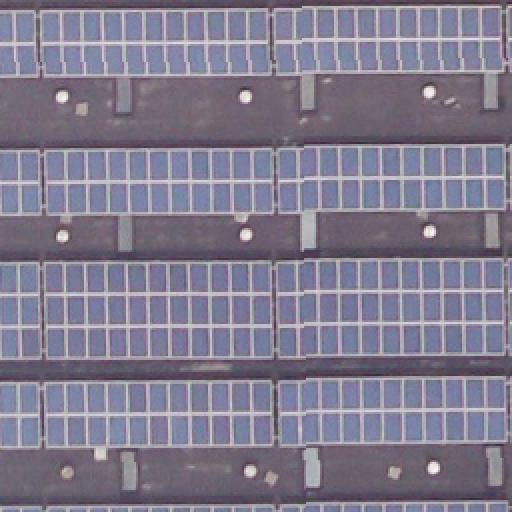solar-panel: (274, 258, 506, 358), (45, 259, 275, 357), (1, 9, 271, 79), (272, 5, 504, 75), (41, 377, 271, 447), (276, 148, 508, 216), (42, 148, 274, 216), (277, 378, 507, 446), (0, 262, 40, 358), (0, 150, 40, 218), (0, 383, 40, 449), (45, 504, 275, 512), (278, 504, 506, 512), (505, 6, 511, 74), (508, 255, 512, 353), (0, 505, 40, 511)
